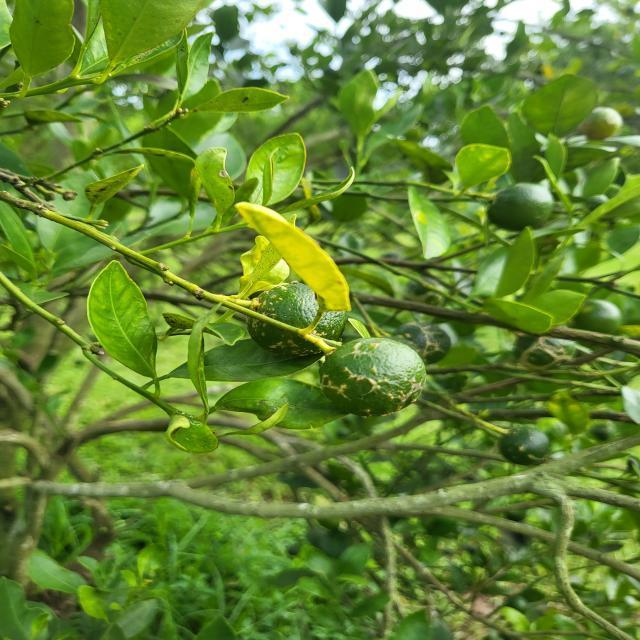thrips: (317, 336, 427, 417), (245, 279, 346, 359)
